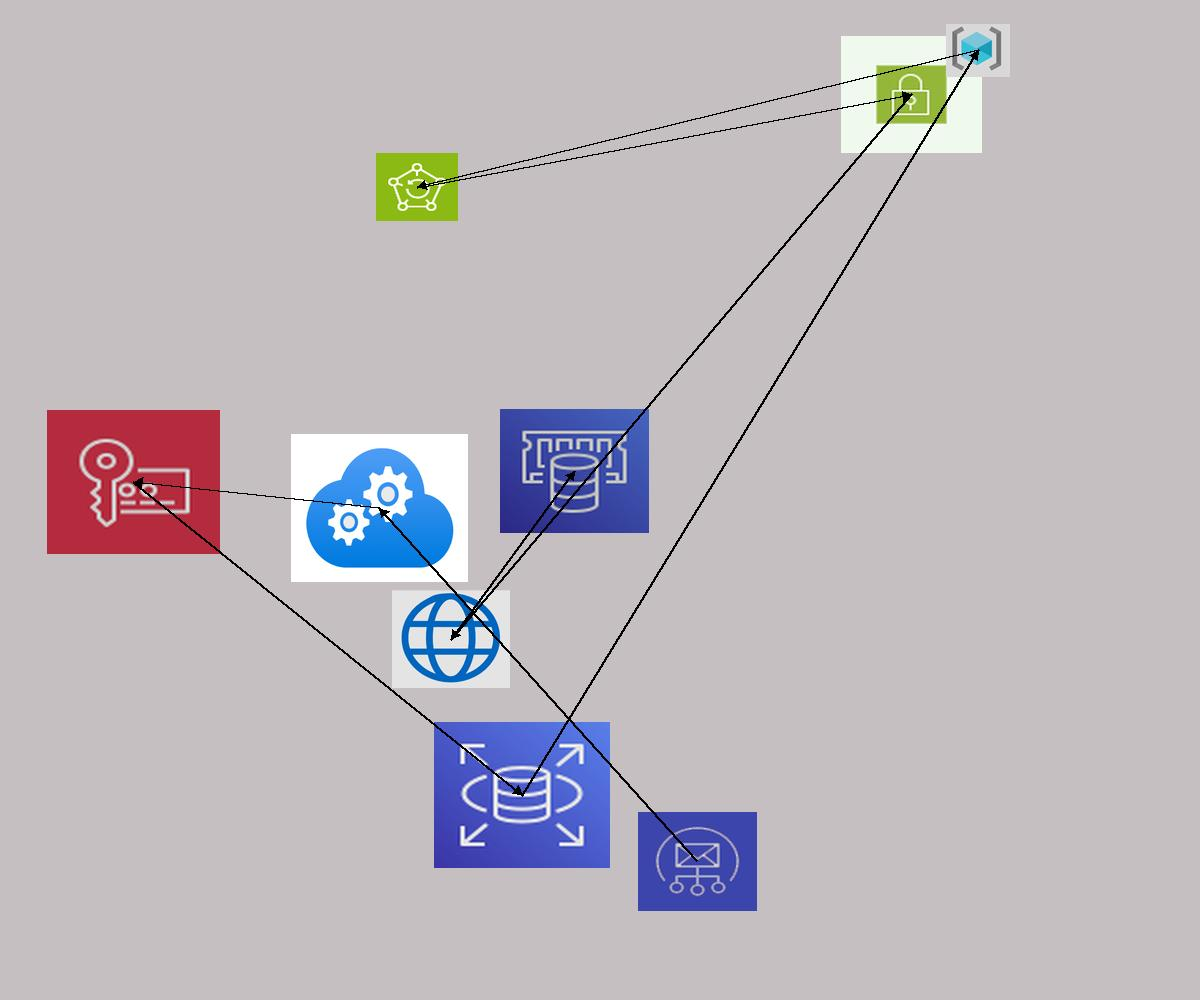AWS-Backup: (376, 153, 458, 221)
AWS-ElastiCache: (500, 409, 649, 533)
AWS-Key-Management-Service: (47, 410, 220, 554)
AWS-Public-subnet: (841, 36, 982, 153)
AWS-RDS: (434, 722, 610, 868)
AWS-Simple-Email-Service: (638, 812, 757, 911)
Azure_cloud_services: (291, 434, 468, 582)
Azure_http: (392, 590, 510, 688)
Azure_resource_group: (946, 24, 1010, 77)
